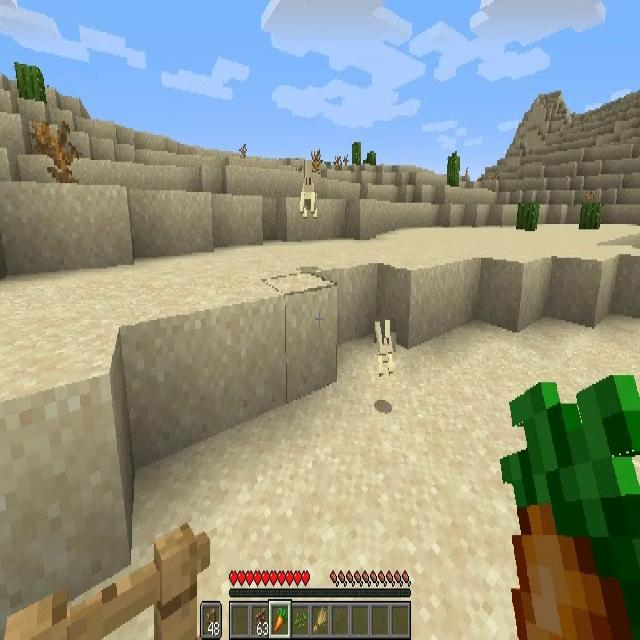rabbit: (374, 318, 396, 381), (300, 163, 317, 216)
